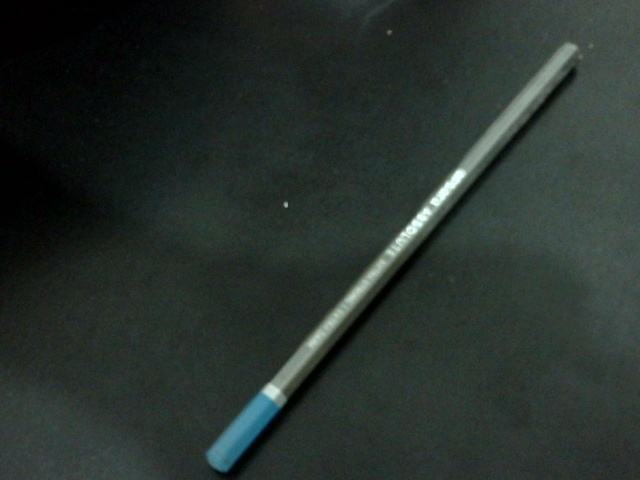pencil: (178, 38, 576, 475)
